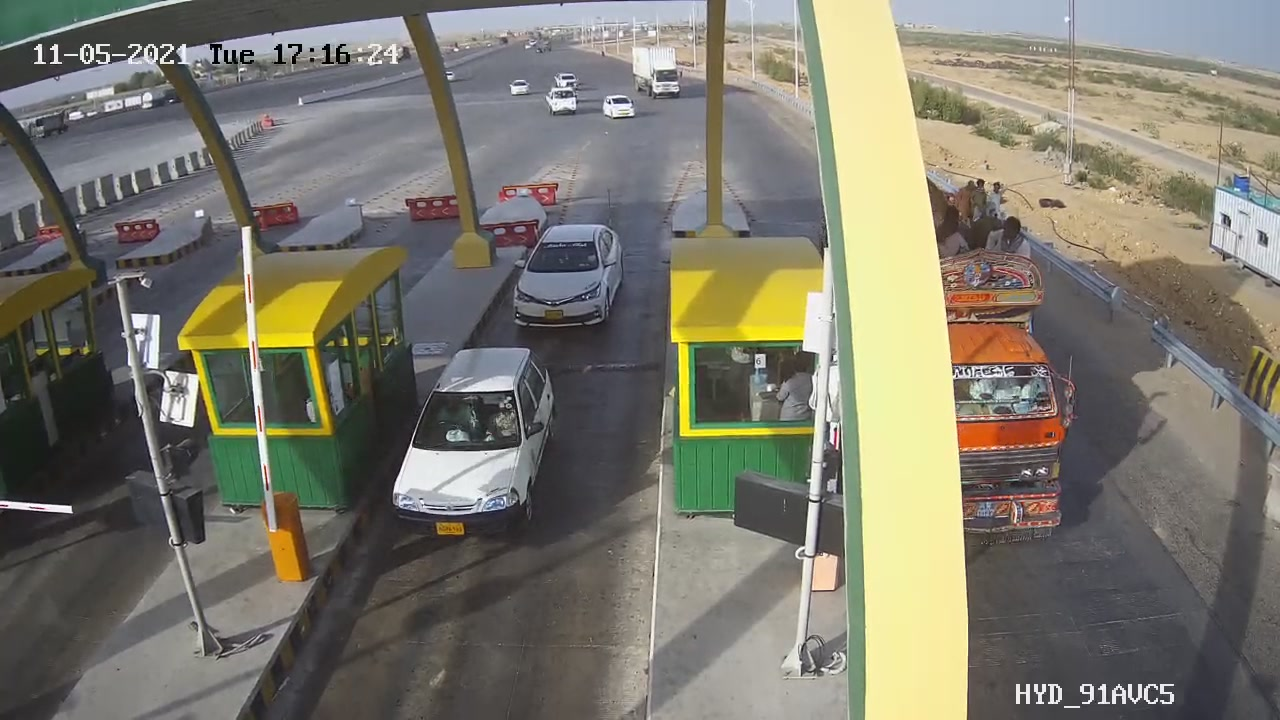F1: (379, 334, 569, 559), (500, 212, 638, 342)
